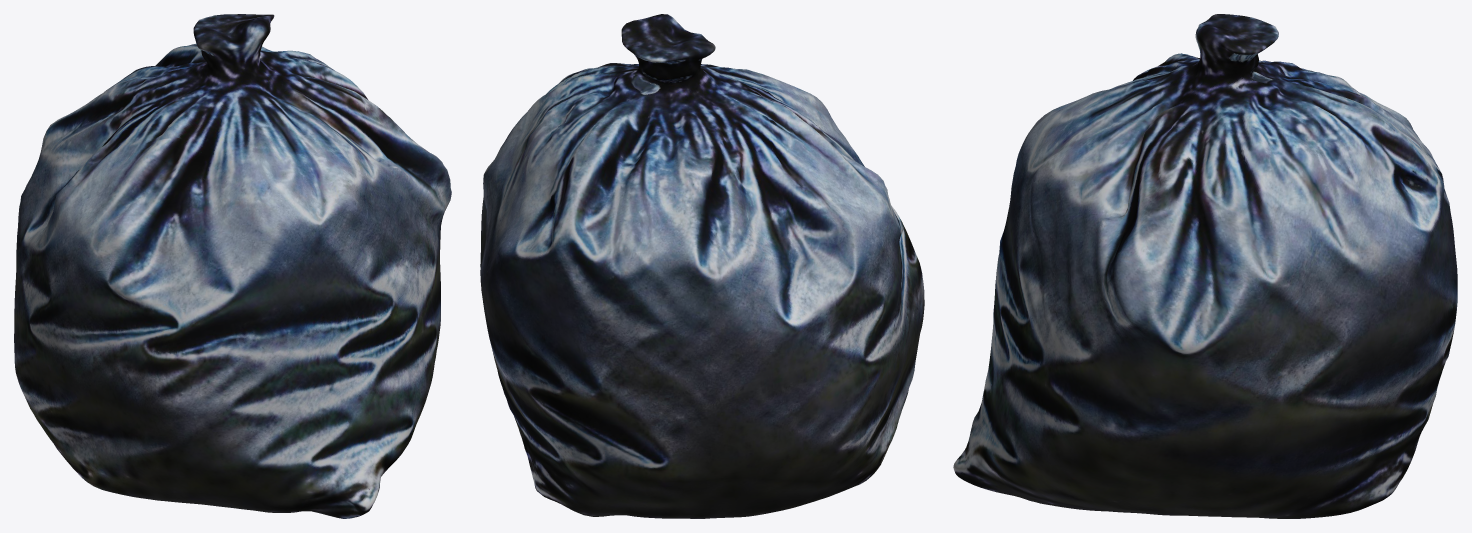
The model's file is garbage_bag_min.fbx.
3 views of the same model, side by side, from view 1: azimuth 30°, elevation 25°; view 2: azimuth 150°, elevation 25°; view 3: azimuth 270°, elevation 25° (orthographic). The views are drawn at different scales.
Parts seen in each view (by area): view 1: garbage_bag; view 2: garbage_bag; view 3: garbage_bag.
Part boxes in pixels (x1,y1,x2,y2): garbage_bag: [14, 14, 451, 518]; garbage_bag: [480, 14, 924, 518]; garbage_bag: [953, 14, 1457, 518].
Bounding box in the file's own units: 91.4 × 99.67 × 95.21.
Materials: 1 (1 with a texture image).
